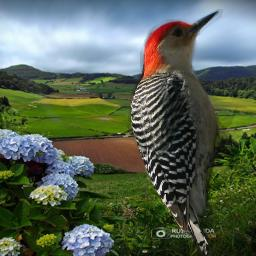Woodpecker: (127, 9, 237, 256)
